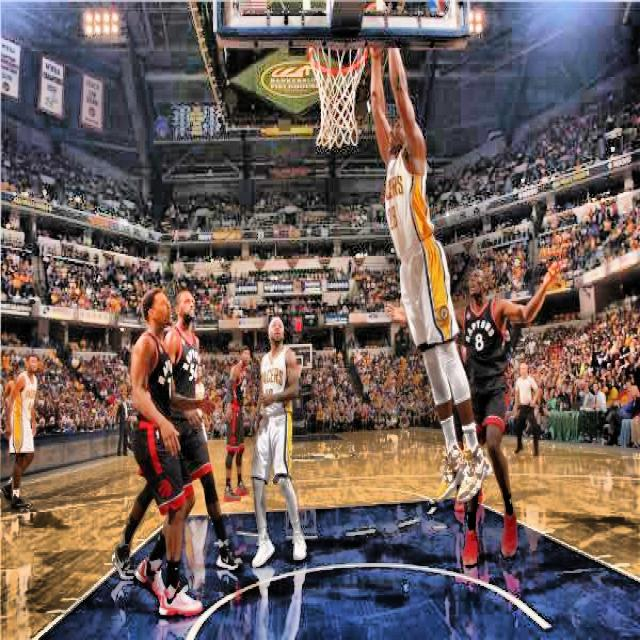rim: (306, 44, 367, 146)
